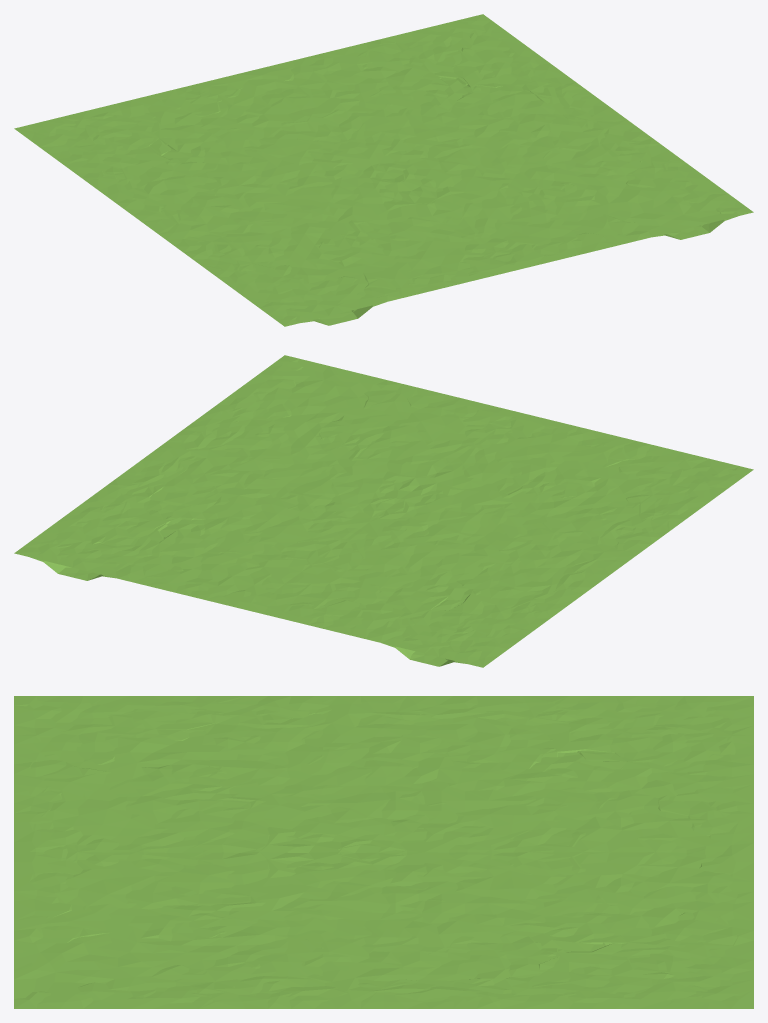
File: wfc_modules.glb
The picture shows the model from 3 angles, top to bottom: view 1: azimuth 30°, elevation 25°; view 2: azimuth 150°, elevation 25°; view 3: azimuth 270°, elevation 25°; orthographic projection. The views are drawn at different scales.
Visible parts, largest first — view 1: wfc_module_2_col, wfc_module_3_col, wfc_module_7_col, wfc_module_1_col, wfc_module_0_col, wfc_module_9_col, wfc_module_6_col, wfc_module_5_col; view 2: wfc_module_2_col, wfc_module_3_col, wfc_module_7_col, wfc_module_1_col, wfc_module_0_col, wfc_module_9_col, wfc_module_6_col, wfc_module_5_col; view 3: wfc_module_2_col, wfc_module_3_col, wfc_module_7_col, wfc_module_1_col, wfc_module_0_col, wfc_module_9_col, wfc_module_6_col, wfc_module_5_col.
Boxes of the visible parts, box(x1,y1,x2,y2) form: wfc_module_2_col: box(138, 52, 670, 325); wfc_module_3_col: box(14, 20, 753, 320); wfc_module_7_col: box(15, 21, 753, 320); wfc_module_1_col: box(14, 14, 724, 323); wfc_module_0_col: box(43, 21, 744, 326); wfc_module_9_col: box(19, 21, 747, 319); wfc_module_6_col: box(137, 146, 386, 300); wfc_module_5_col: box(43, 50, 724, 292); wfc_module_2_col: box(113, 394, 736, 666); wfc_module_3_col: box(23, 355, 744, 667); wfc_module_7_col: box(24, 355, 738, 667); wfc_module_1_col: box(14, 387, 738, 667); wfc_module_0_col: box(31, 358, 753, 660); wfc_module_9_col: box(52, 356, 743, 666); wfc_module_6_col: box(445, 451, 699, 660); wfc_module_5_col: box(66, 361, 712, 606); wfc_module_2_col: box(14, 701, 707, 1008); wfc_module_3_col: box(14, 696, 753, 1008); wfc_module_7_col: box(14, 696, 753, 1008); wfc_module_1_col: box(14, 696, 753, 1008); wfc_module_0_col: box(14, 696, 753, 1008); wfc_module_9_col: box(14, 696, 753, 1008); wfc_module_6_col: box(53, 711, 610, 795); wfc_module_5_col: box(15, 696, 750, 1007).
Size of the model in its own units: 10 by 0.7324 by 10.
